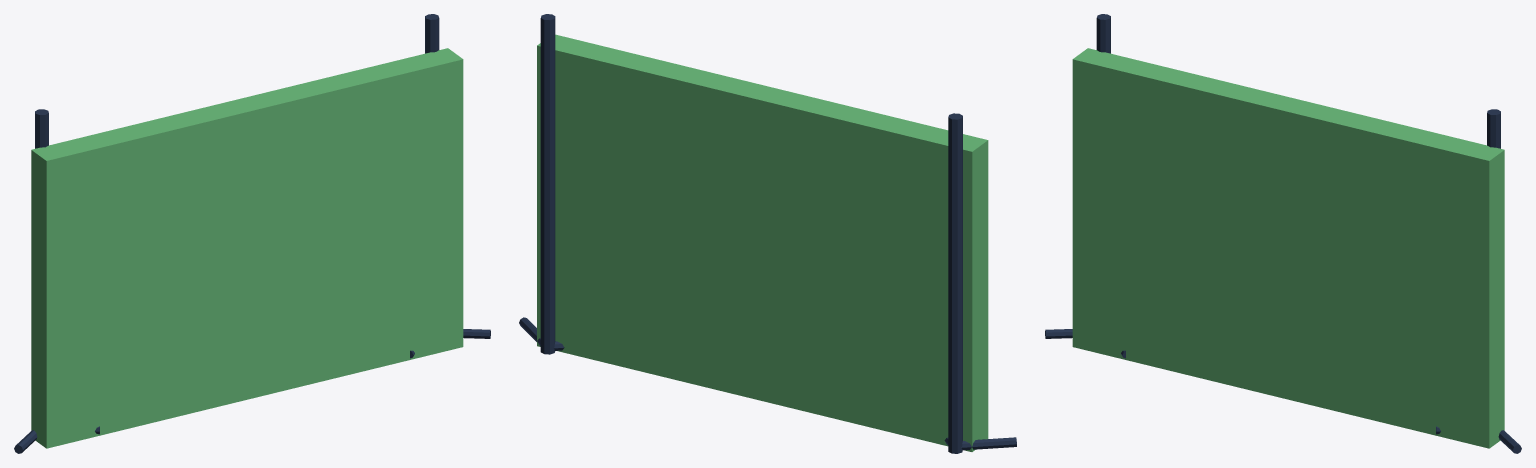
Rendered from green_cyc.glb.
The picture shows the model from 3 angles, left to right: view 1: azimuth 30°, elevation 25°; view 2: azimuth 150°, elevation 25°; view 3: azimuth 330°, elevation 25°; orthographic projection. The views are drawn at different scales.
Parts seen in each view (by area): view 1: green_cyc; view 2: green_cyc; view 3: green_cyc.
Part boxes in pixels (x1,y1,x2,y2): green_cyc: (14,14,490,453); green_cyc: (519,14,1016,453); green_cyc: (1045,14,1521,453).
Size of the model in its own units: 5.38 by 3.45 by 0.4496.
